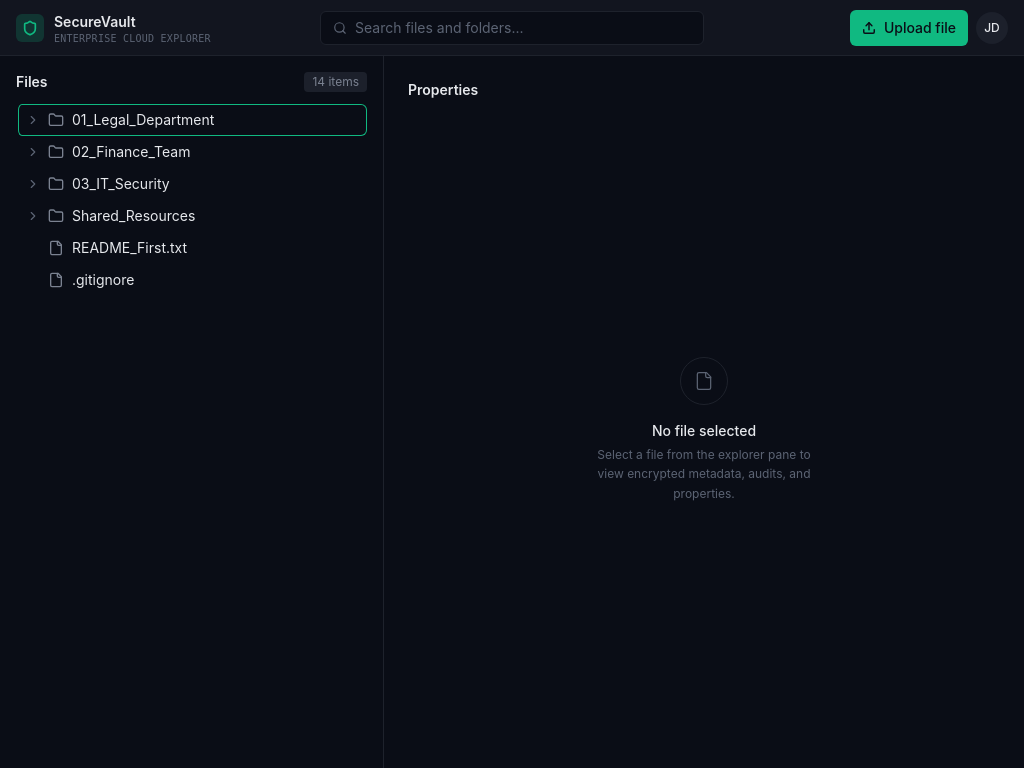
Scenario: selecting a file marks it selected and populates the properties panel
Click the list item "README_First.txt" at (130, 248), box [16,232,367,264]
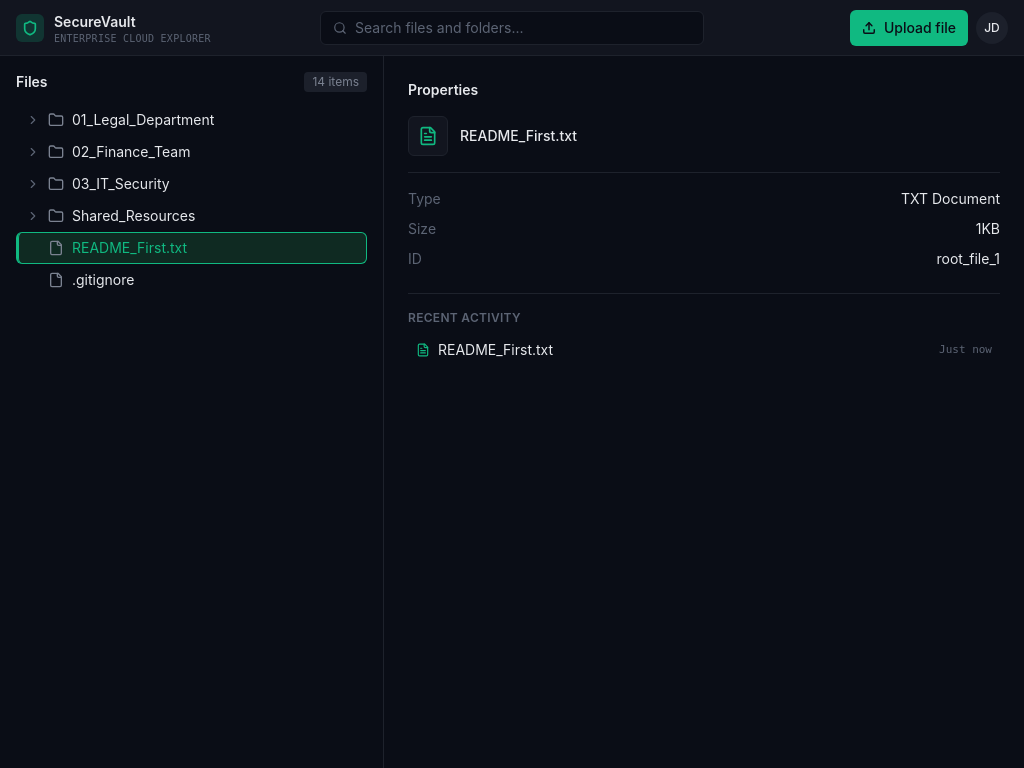
Expected: the element named "File properties" shows "README_First.txt", [460,127,577,144]
Expected: the element named "File properties" shows "1KB", [976,220,1000,237]
